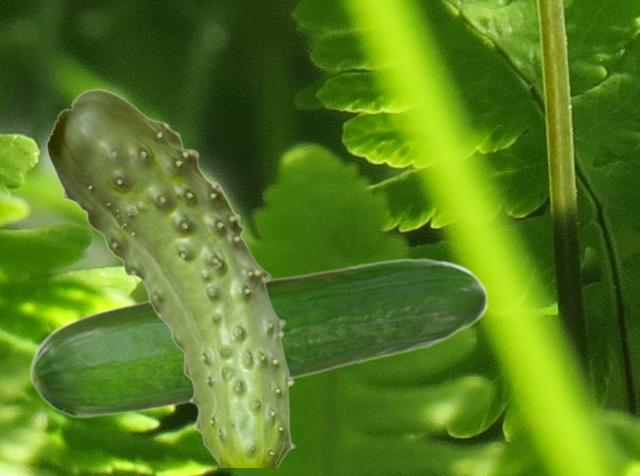cucumber: (45, 88, 295, 466), (29, 257, 487, 418)
